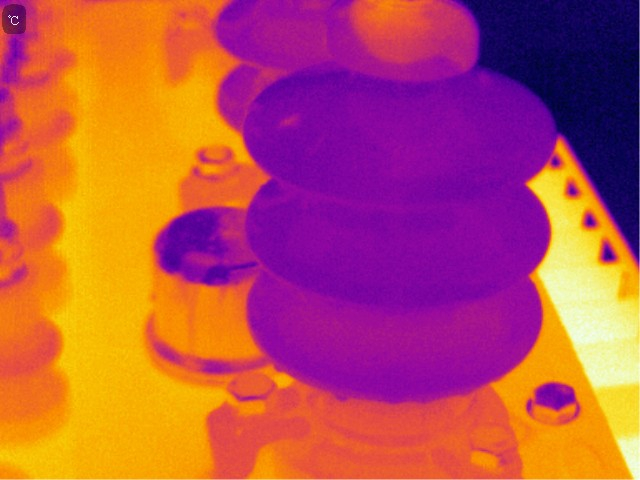Oil: (339, 1, 474, 74), (332, 385, 351, 404)
